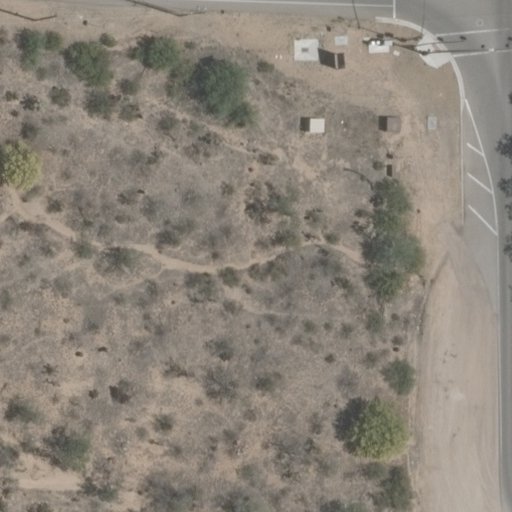DT: (173, 1, 215, 26), (26, 9, 63, 24)
